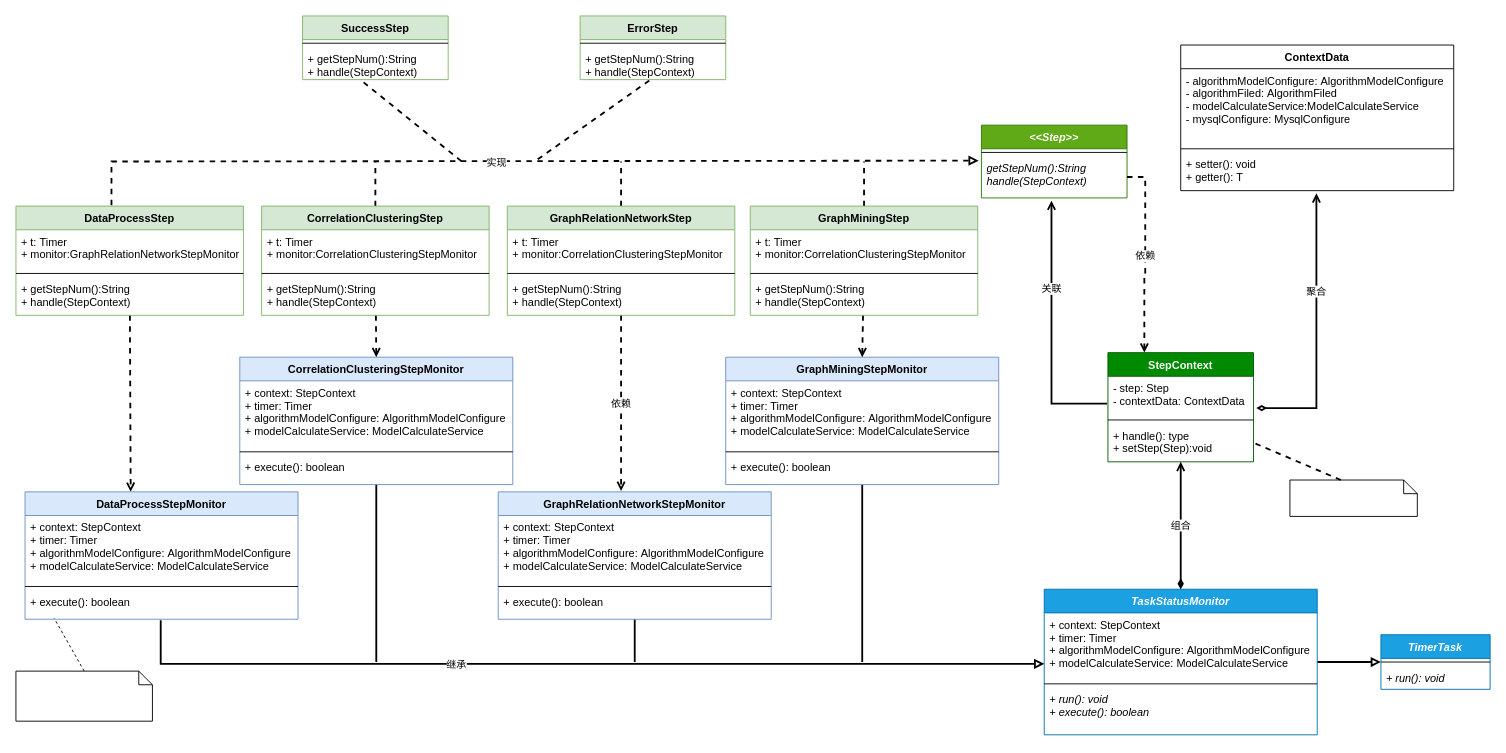
Some shapes in this 1506 by 753 pixel diagram are drawn without their labels. Here are the shapes that lost their labels. From the top down, the centre of each, then its label:
(1353,497): StepCotext.handle()内部调用Step.handle()。
(83,695): execute()内部调用StepContext.setStep()方法，设置下一阶段
